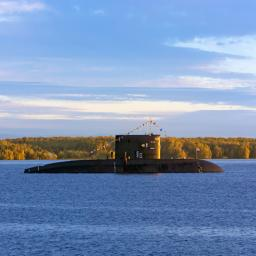submarine: (21, 127, 228, 174)
